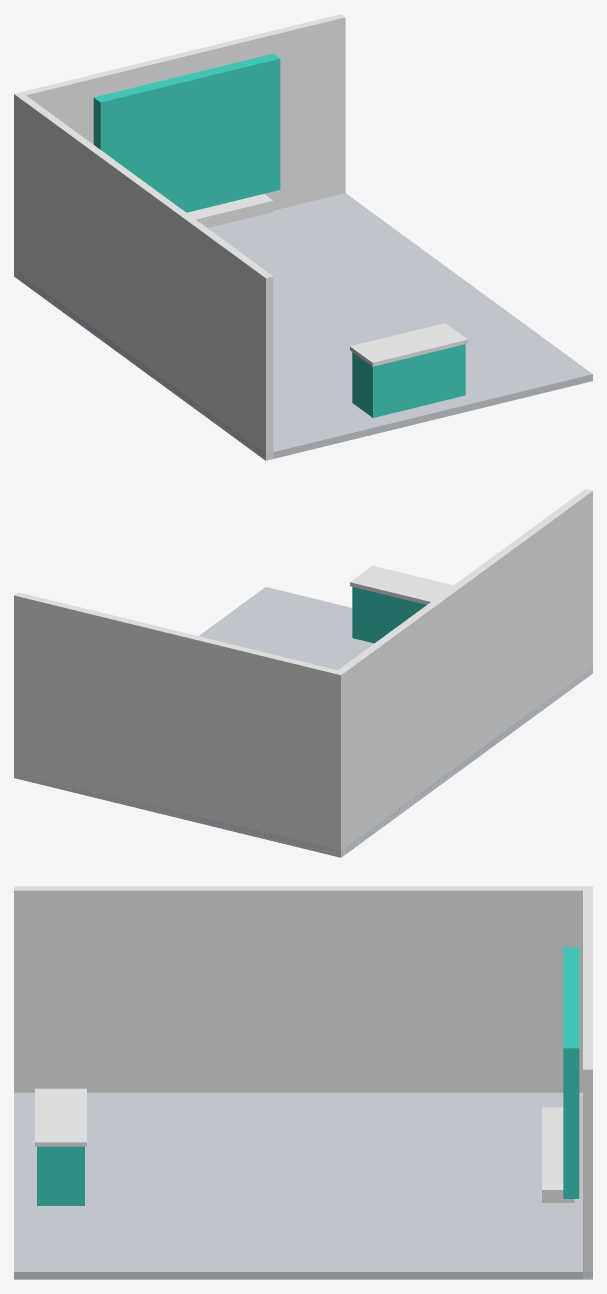
3 views of the same model, one above another, from view 1: azimuth 30°, elevation 25°; view 2: azimuth 150°, elevation 25°; view 3: azimuth 270°, elevation 25° (orthographic). The views are drawn at different scales.
Visible parts, largest first — view 1: Exhibition Booth Concept; view 2: Exhibition Booth Concept; view 3: Exhibition Booth Concept.
Part boxes in pixels (x1,y1,x2,y2): Exhibition Booth Concept: (14, 14, 592, 460); Exhibition Booth Concept: (14, 489, 592, 857); Exhibition Booth Concept: (14, 886, 592, 1279).
Bounding box in the file's own units: 6 × 3.2 × 8.
